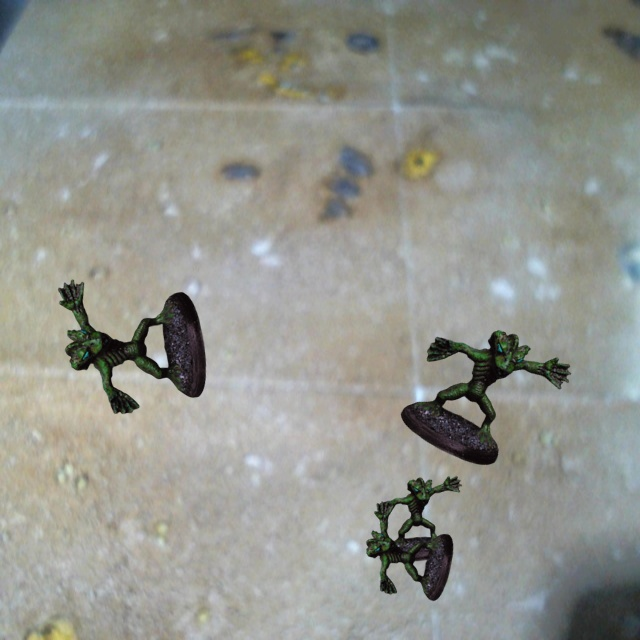pieza_juego: (401, 330, 570, 464), (58, 279, 205, 413), (366, 501, 452, 600), (379, 476, 461, 560)
